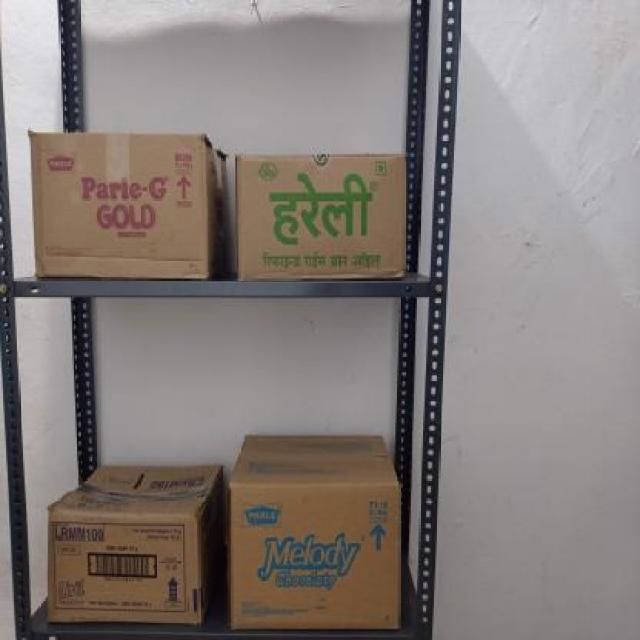box: (33, 129, 210, 283), (229, 484, 402, 630), (233, 154, 410, 280), (47, 510, 196, 627)
